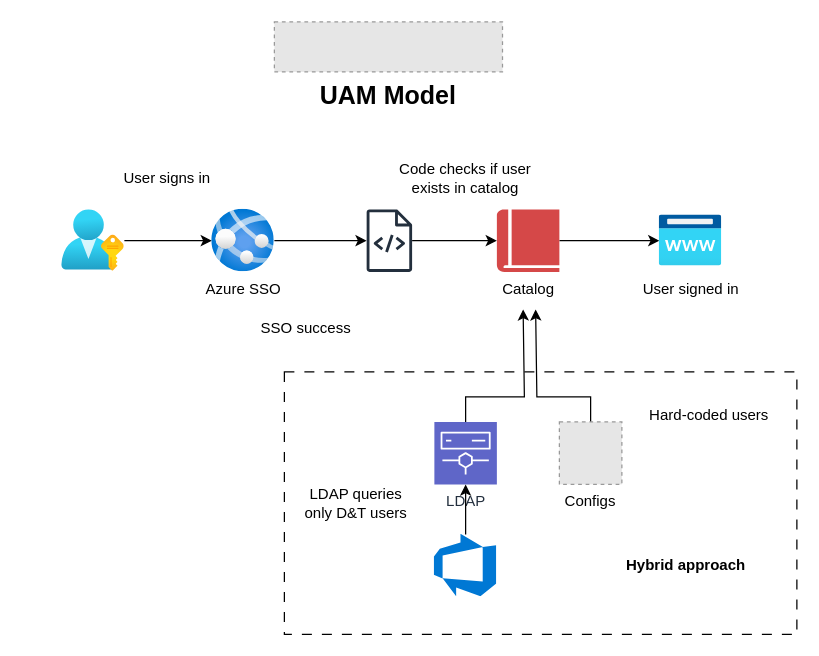
Image size: 819x656. Some labels were removed from this diagram. Grey dashed boxes stand in for pictures. The shapes that lost their labels are listed below. From the top down, each one's box as (x1, y1, x2, y2) in pixels, then its label:
(61, 209, 124, 271): user@kiwibank.co.nz
(358, 209, 420, 271): Auth.ts code
(434, 534, 496, 596): Azure AD
